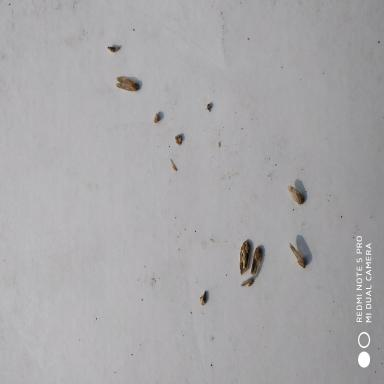pbw: (113, 71, 142, 94), (236, 237, 252, 278), (287, 240, 308, 270), (247, 245, 265, 277), (286, 181, 306, 207), (239, 274, 257, 289)
